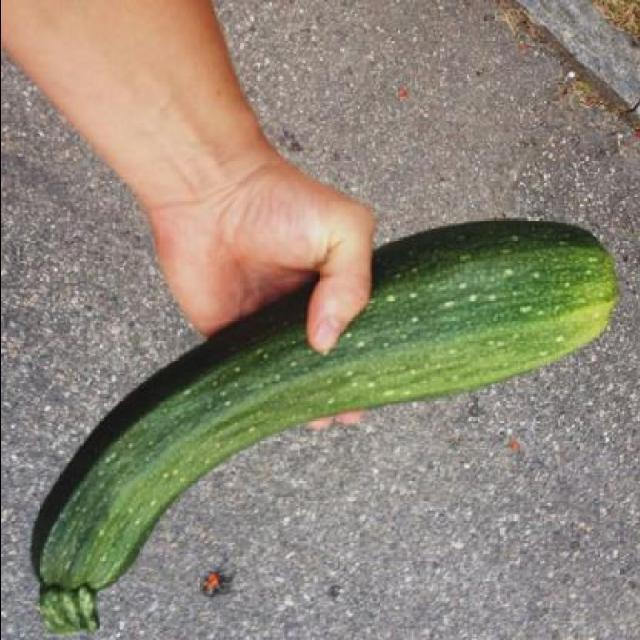Zucchini: (33, 205, 630, 637)
